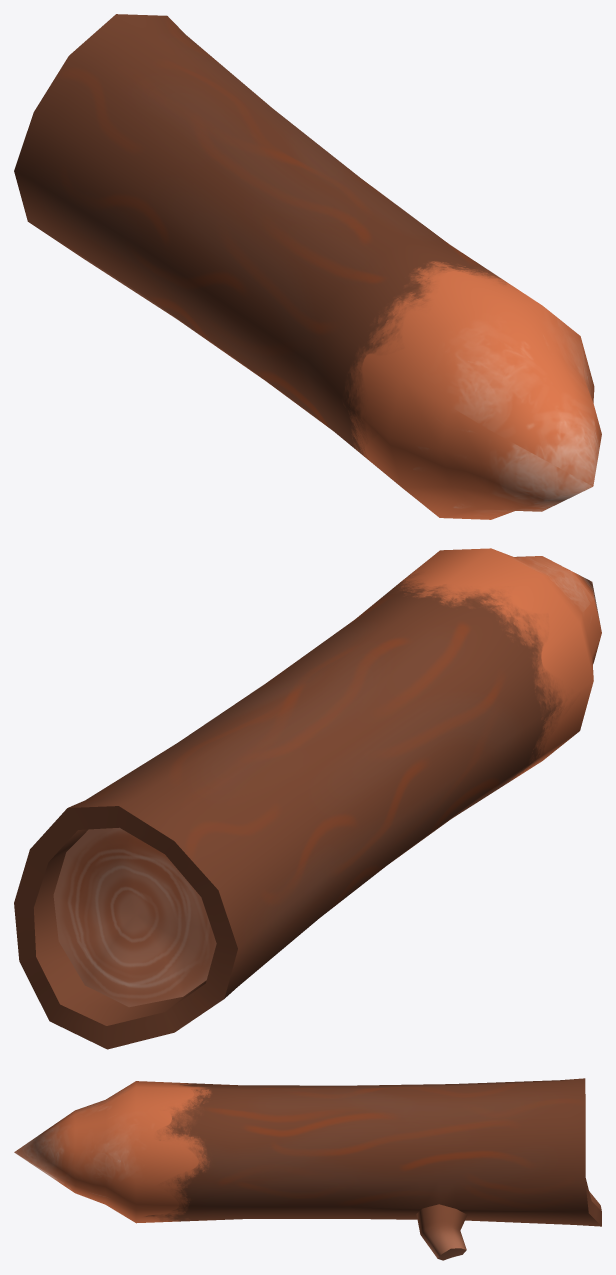
File: Log.fbx
3 views of the same model, one above another, from view 1: azimuth 30°, elevation 25°; view 2: azimuth 150°, elevation 25°; view 3: azimuth 270°, elevation 25° (orthographic). The views are drawn at different scales.
Parts seen in each view (by area): view 1: Cylinder; view 2: Cylinder; view 3: Cylinder.
Boxes of the visible parts, <box> form: Cylinder: <box>14,14,601,519</box>; Cylinder: <box>14,548,601,1049</box>; Cylinder: <box>14,1078,601,1260</box>.
Bounding box in the file's own units: 54.26 × 49.95 × 181.
